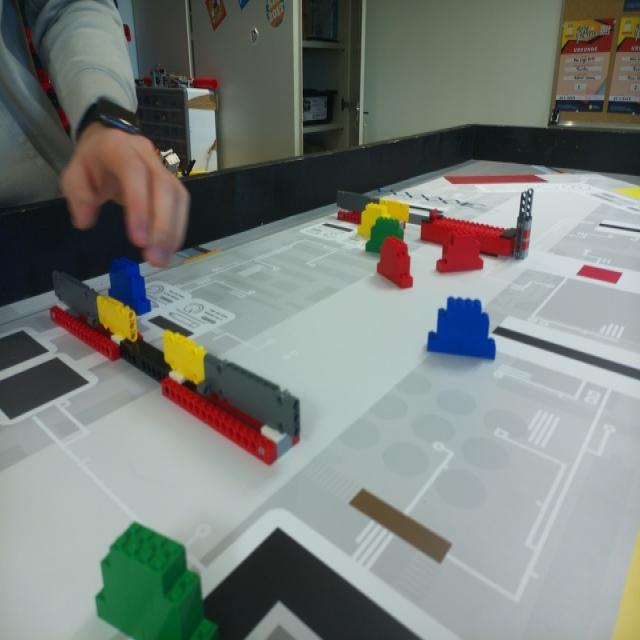blau: (427, 299, 495, 360), (103, 257, 150, 310)
gruen: (95, 515, 226, 640), (368, 221, 397, 254)
rot: (436, 232, 483, 274), (376, 236, 413, 288)
yellow: (356, 204, 384, 235)
